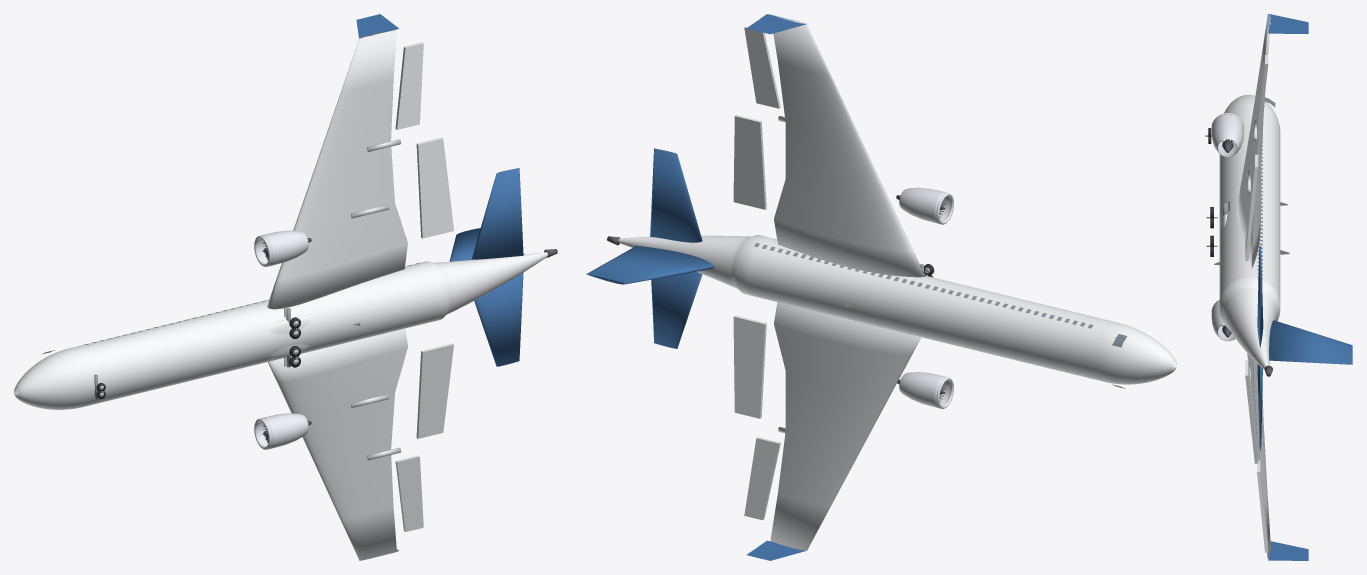
The model's file is b737-max8.glb.
The picture shows the model from 3 angles, left to right: view 1: azimuth 30°, elevation 25°; view 2: azimuth 150°, elevation 25°; view 3: azimuth 270°, elevation 25°; orthographic projection.
Parts seen in each view (by area): view 1: Fuselage, Wing_R, Wing_L, HStab_R, HStab_L, Flap_R, Flap_L, Aileron_R, Aileron_L, Nacelle_-1_0, Nacelle_1_0, Fin; view 2: Fuselage, Wing_L, Wing_R, HStab_R, Flap_L, Fin, HStab_L, Flap_R, Aileron_L, Aileron_R, Nacelle_-1_0, Nacelle_1_0 (+1 smaller); view 3: Fuselage, Fin, Wing_R, Wing_L, Nacelle_1_0, Sharklet_R, Sharklet_L, Flap_R, Flap_L, HStab_R, Aileron_L, Aileron_R (+2 smaller).
Part boxes in pixels (<box>): Fuselage: <box>14,252,547,409</box>; Wing_R: <box>267,29,407,309</box>; Wing_L: <box>268,328,407,560</box>; HStab_R: <box>471,168,523,259</box>; HStab_L: <box>474,272,523,366</box>; Flap_R: <box>416,137,453,238</box>; Flap_L: <box>416,343,453,438</box>; Aileron_R: <box>395,42,423,129</box>; Aileron_L: <box>395,455,423,531</box>; Nacelle_-1_0: <box>257,413,308,449</box>; Nacelle_1_0: <box>257,230,308,266</box>; Fin: <box>449,228,524,261</box>; Fuselage: <box>618,235,1176,384</box>; Wing_L: <box>770,302,921,550</box>; Wing_R: <box>770,14,925,277</box>; HStab_R: <box>650,148,702,242</box>; Flap_L: <box>733,315,766,418</box>; Fin: <box>586,245,714,284</box>; HStab_L: <box>651,271,702,348</box>; Flap_R: <box>733,115,766,209</box>; Aileron_L: <box>744,437,780,520</box>; Aileron_R: <box>744,26,780,108</box>; Nacelle_-1_0: <box>899,372,950,408</box>; Nacelle_1_0: <box>899,187,950,223</box>; Fuselage: <box>1219,94,1280,369</box>; Fin: <box>1269,320,1352,364</box>; Wing_R: <box>1237,14,1270,267</box>; Wing_L: <box>1247,353,1270,558</box>; Nacelle_1_0: <box>1211,113,1243,156</box>; Sharklet_R: <box>1268,14,1308,33</box>; Sharklet_L: <box>1268,541,1308,560</box>; Flap_R: <box>1245,154,1258,260</box>; Flap_L: <box>1245,360,1258,463</box>; HStab_R: <box>1257,245,1263,347</box>; Aileron_L: <box>1257,460,1268,552</box>; Aileron_R: <box>1257,55,1268,136</box>.
Size of the model in its own units: 39.8 by 35.92 by 9.12.
